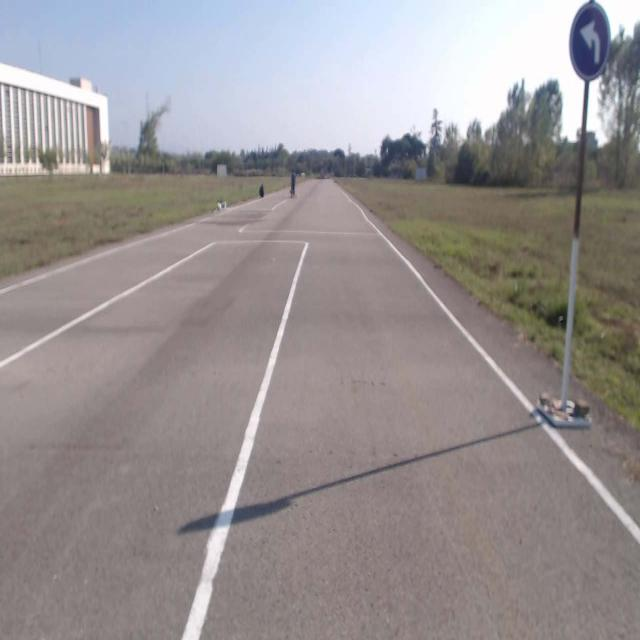sol: (570, 3, 610, 81)
